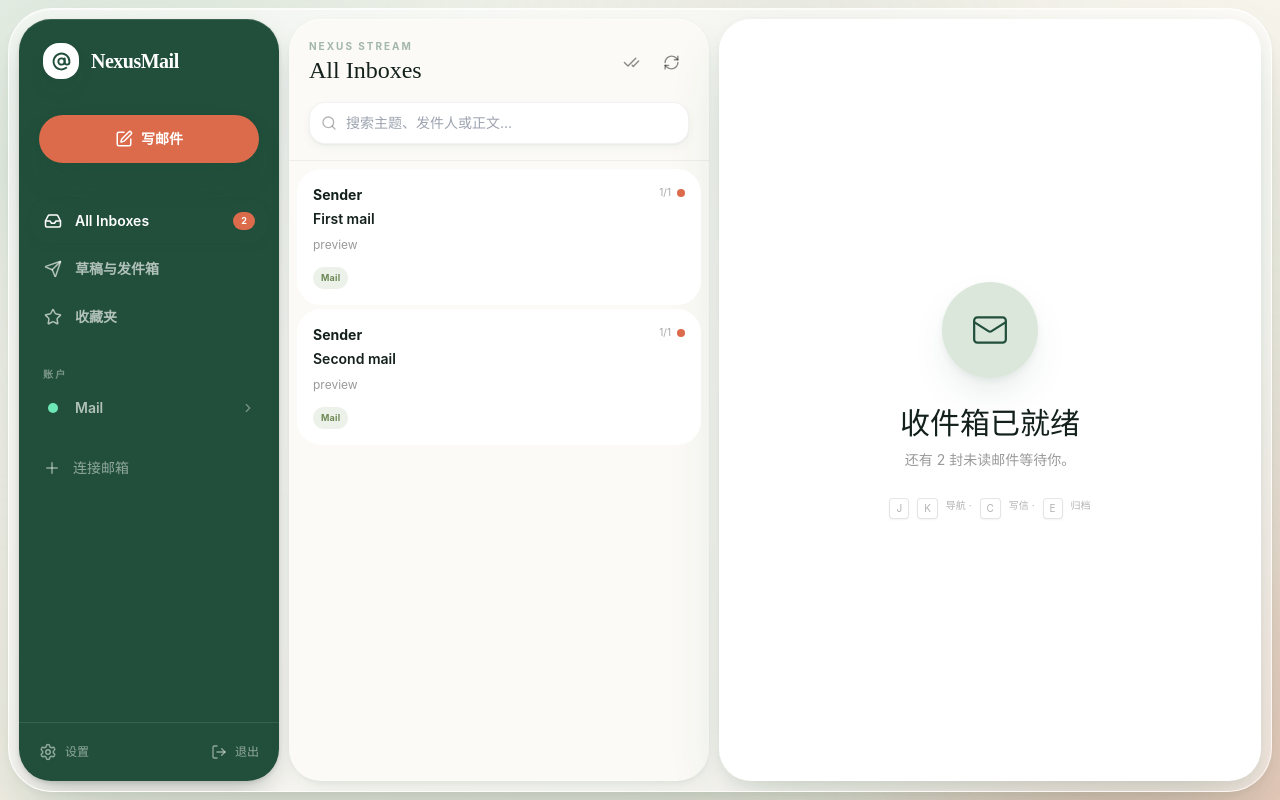
Test: mark the current view read › says which part failed when only some accounts accepted the flag
expect the button "Sender 1/1 First mail preview Mail" is shown: met, box [297,169,701,304]
Click the button named "全部已读" at (631, 62), box [613,44,649,80]
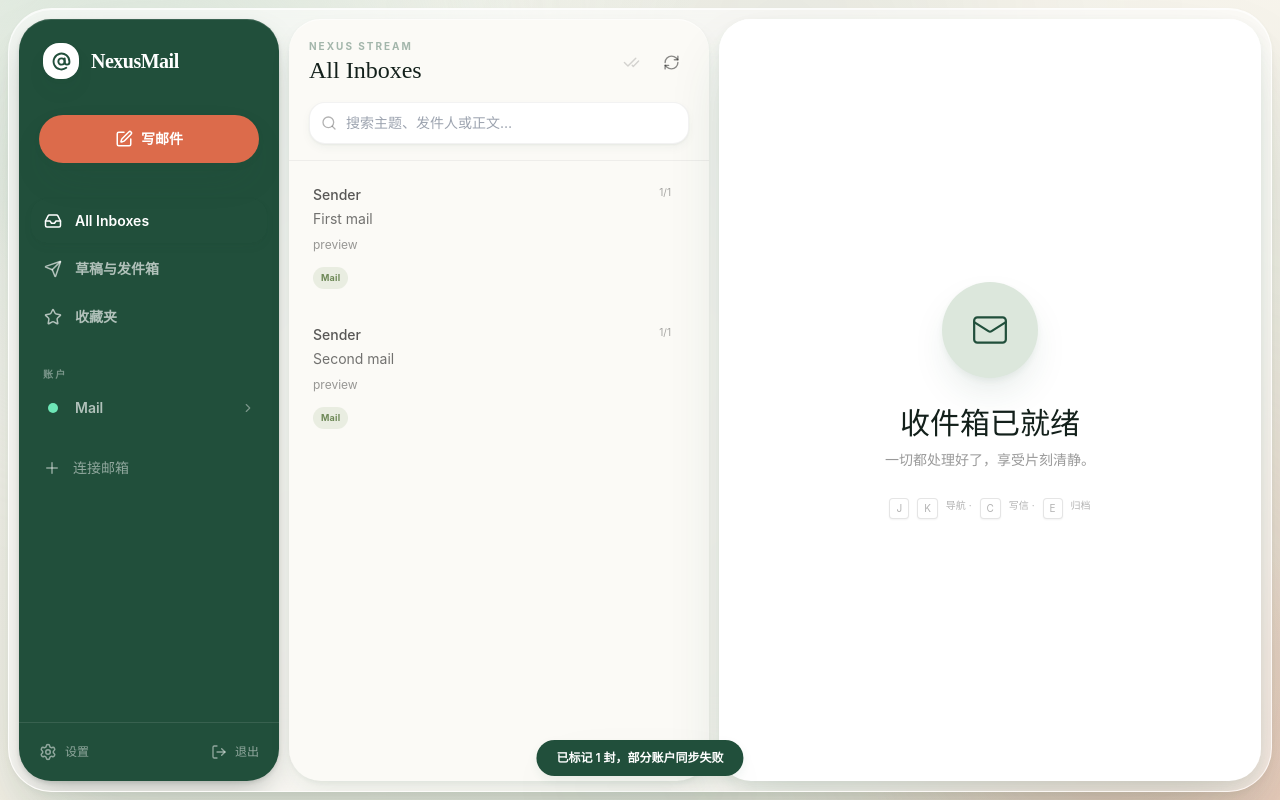
expect the message reads "已标记 1 封，部分账户同步失败": met, box [556,750,724,765]
